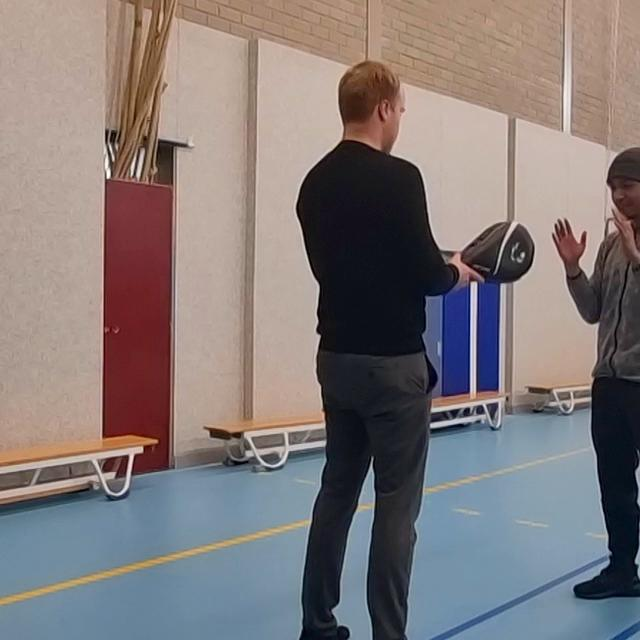paddle: (439, 222, 547, 284)
